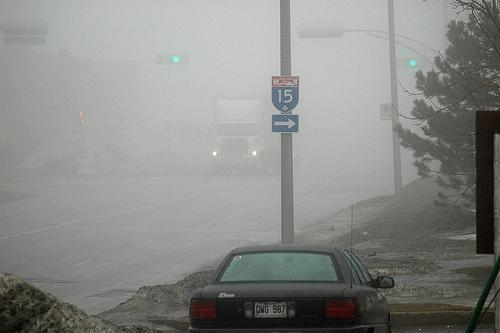car: (189, 245, 396, 329)
truck: (208, 100, 280, 175)
